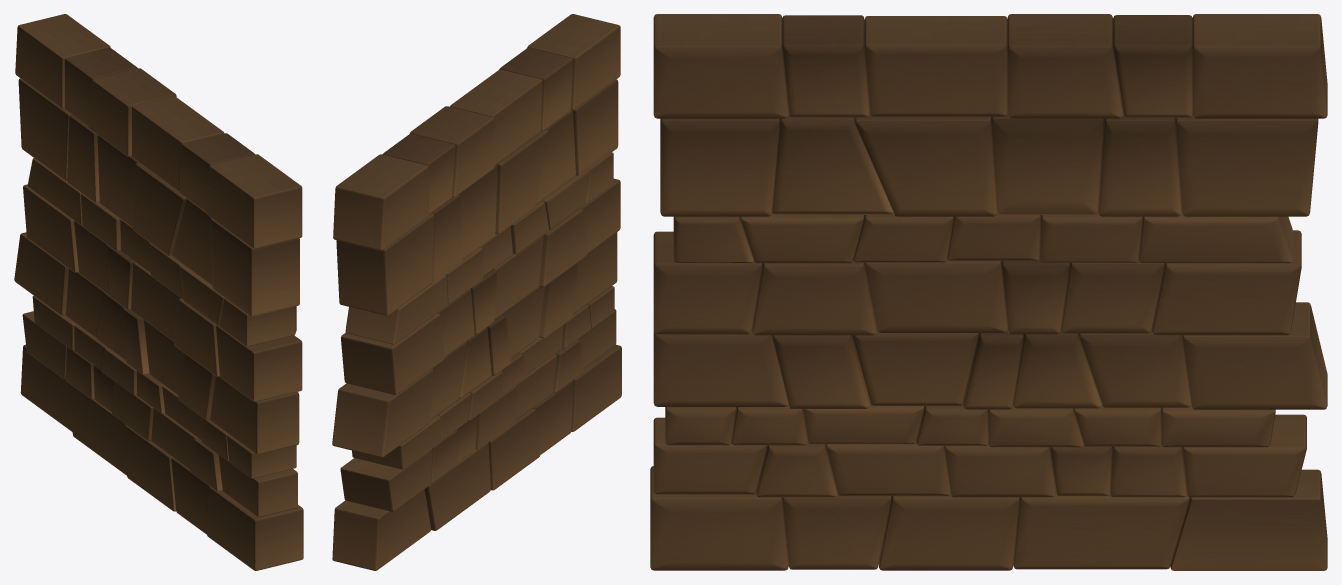
The model's file is Piso modular.fbx.
3 renders of one model, left to right at view 1: azimuth 30°, elevation 25°; view 2: azimuth 150°, elevation 25°; view 3: azimuth 270°, elevation 25°, orthographic. The views are drawn at different scales.
Visible parts, largest first — view 1: pCube1, pCube22, pCube9, pCube15, pCube34, pCube4, pCube40, pCube6, pCube65, pCube20, pCube12, pCube54 (+38 smaller); view 2: pCube15, pCube65, pCube59, pCube14, pCube62, pCube1, pCube4, pCube6, pCube55, pCube20, pCube12, pCube64 (+38 smaller); view 3: pCube4, pCube15, pCube1, pCube65, pCube20, pCube12, pCube14, pCube22, pCube6, pCube59, pCube9, pCube19 (+38 smaller).
Part boxes in pixels (x1,y1,x2,y2): pCube1: [207, 154, 302, 248]; pCube22: [209, 218, 299, 316]; pCube9: [207, 486, 303, 570]; pCube15: [15, 14, 110, 108]; pCube34: [216, 325, 302, 401]; pCube4: [132, 96, 223, 191]; pCube40: [210, 376, 299, 454]; pCube6: [88, 68, 176, 156]; pCube65: [18, 78, 71, 181]; pCube20: [132, 162, 186, 256]; pCube12: [66, 381, 126, 475]; pCube54: [218, 455, 297, 516]; pCube15: [333, 154, 428, 250]; pCube65: [336, 213, 434, 315]; pCube59: [332, 369, 433, 457]; pCube14: [332, 489, 431, 570]; pCube62: [341, 313, 444, 394]; pCube1: [527, 14, 620, 110]; pCube4: [450, 69, 542, 165]; pCube6: [409, 106, 494, 197]; pCube55: [340, 449, 432, 511]; pCube20: [495, 129, 548, 234]; pCube12: [424, 443, 490, 530]; pCube64: [345, 274, 447, 344]; pCube4: [864, 16, 1007, 116]; pCube15: [1192, 14, 1327, 118]; pCube1: [653, 14, 788, 118]; pCube65: [1175, 115, 1318, 216]; pCube20: [854, 111, 997, 216]; pCube12: [1013, 492, 1190, 569]; pCube14: [1170, 469, 1327, 570]; pCube22: [660, 118, 780, 216]; pCube6: [1007, 14, 1122, 118]; pCube59: [1182, 302, 1327, 409]; pCube9: [650, 466, 788, 570]; pCube19: [991, 114, 1104, 214].
Size of the model in its own units: 0.3403 by 2.15 by 2.51.
